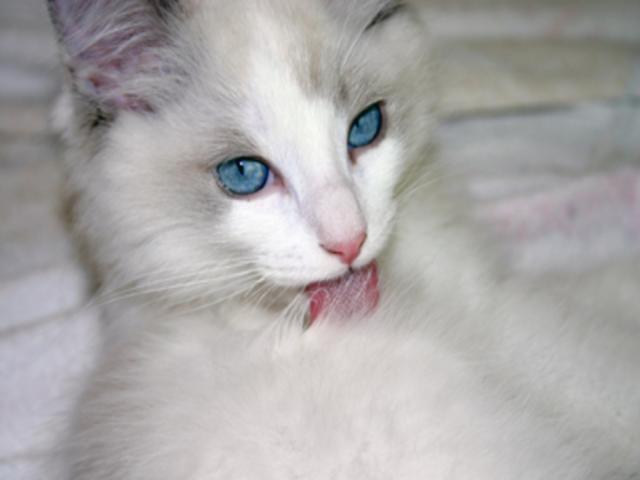Cat: (51, 0, 638, 478)
